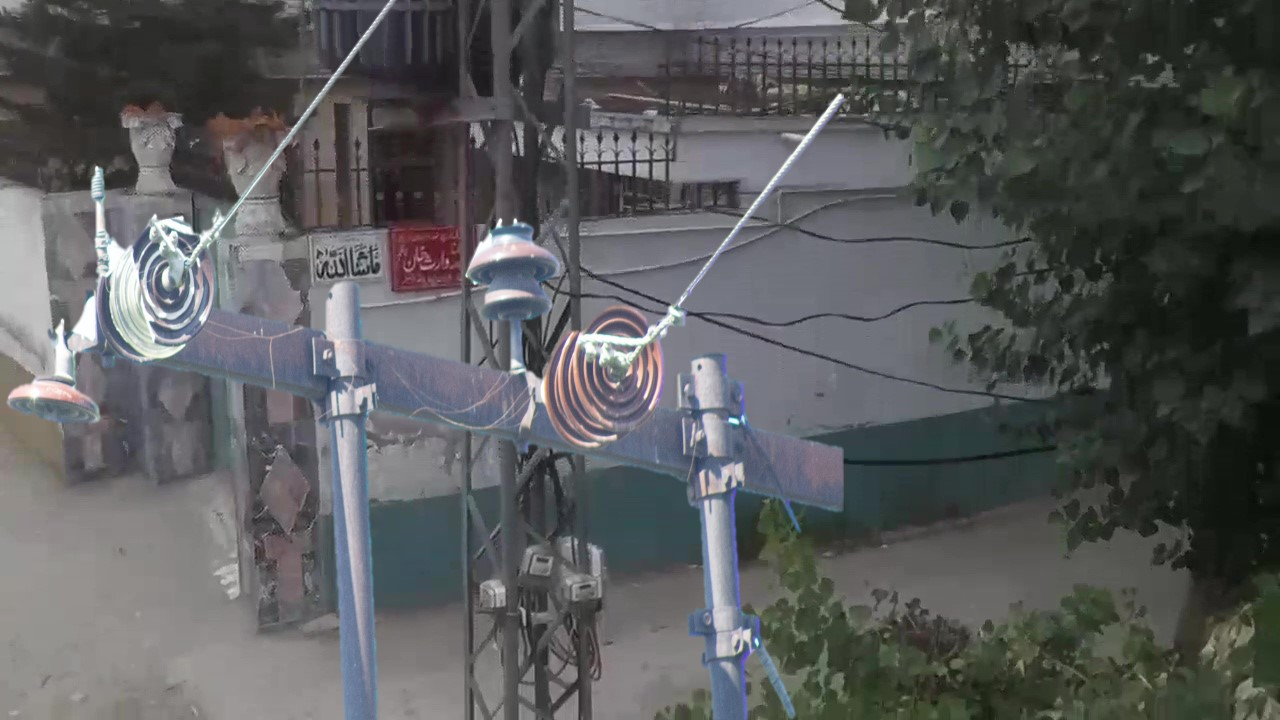defect_disc: (130, 216, 218, 352)
insulator_disc: (569, 302, 665, 431), (5, 366, 103, 435)
